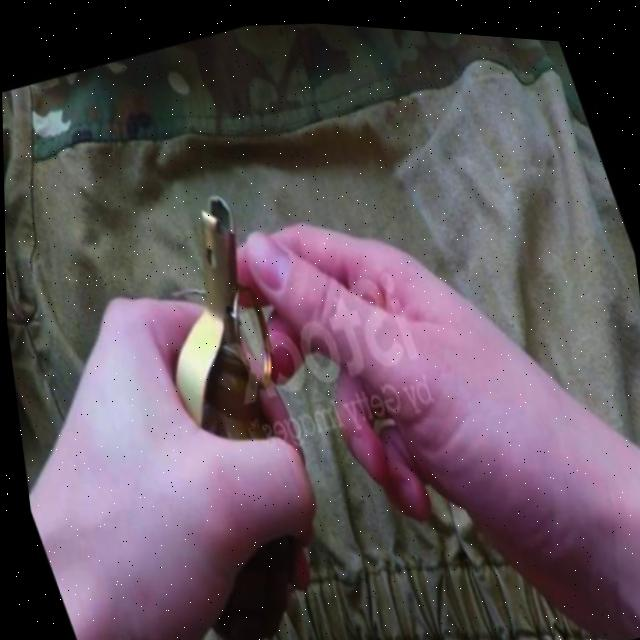grenade: (63, 157, 373, 640)
